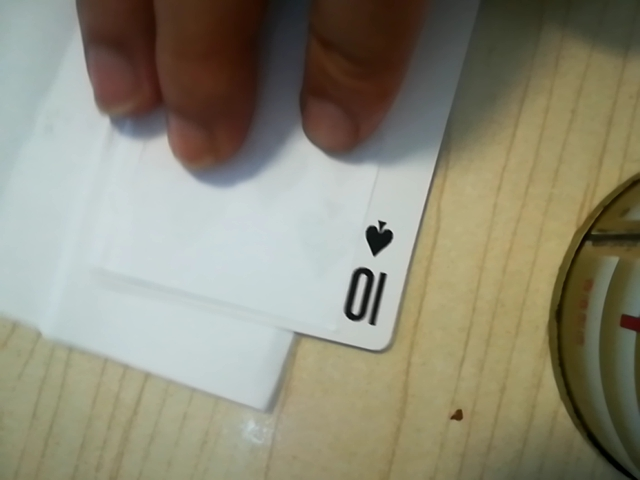ht 10: (334, 198, 405, 345)
